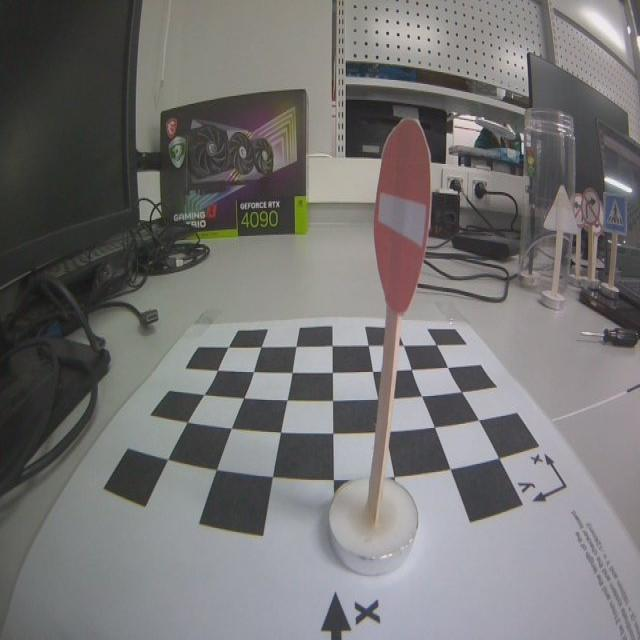Dilarang Masuk: (371, 119, 431, 313)
Rambu Penyebrangan: (602, 192, 629, 235)
